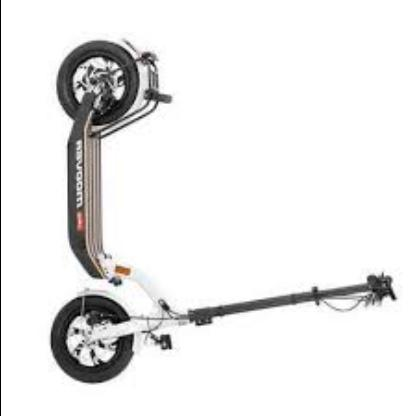bike: (49, 39, 409, 385), (50, 271, 399, 384)
car: (49, 36, 415, 385)
